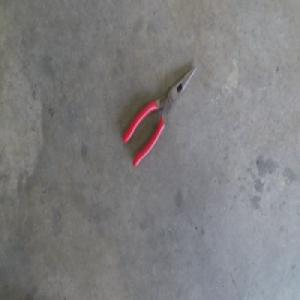Pliers: (122, 65, 197, 168)
